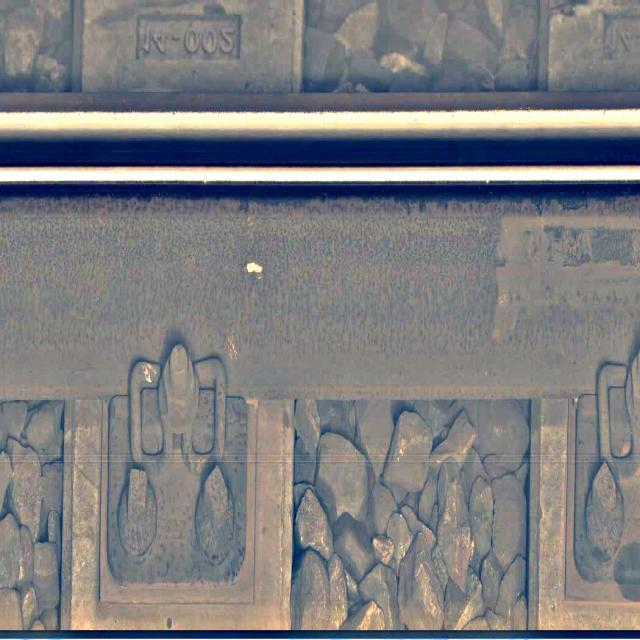Good Fasteners: (71, 343, 294, 628), (572, 350, 639, 601)
